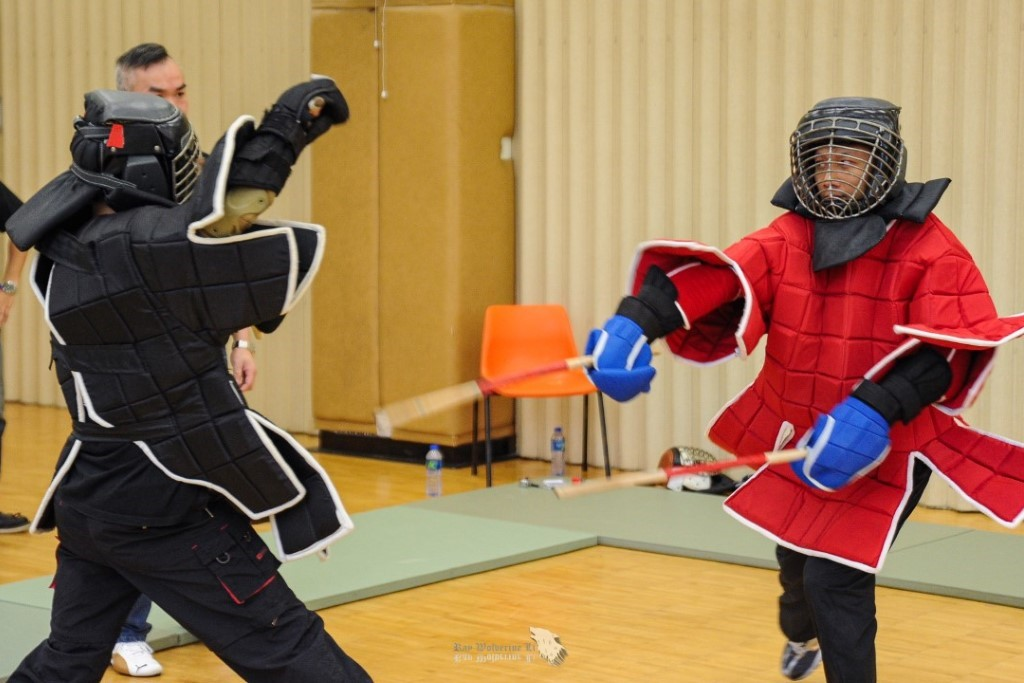baston_e: (400, 348, 585, 432), (569, 449, 800, 502)
baston_v: (370, 396, 406, 437), (547, 474, 572, 501)
